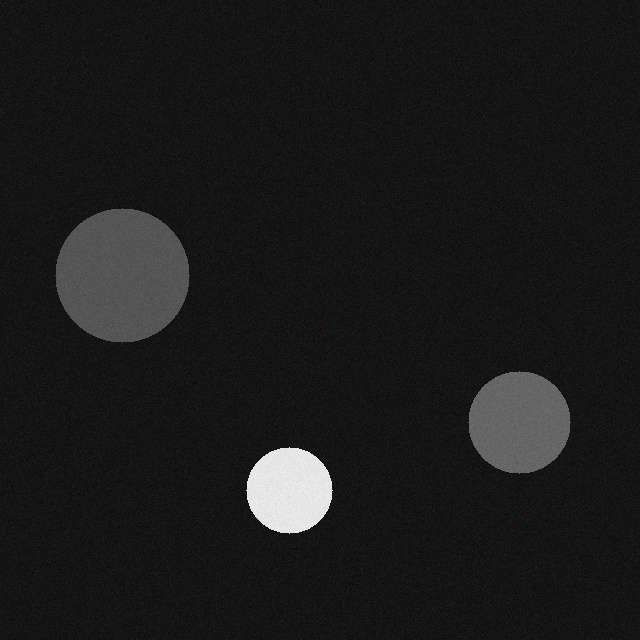circle: (58, 207, 192, 341), (471, 370, 573, 472), (249, 446, 335, 532)
